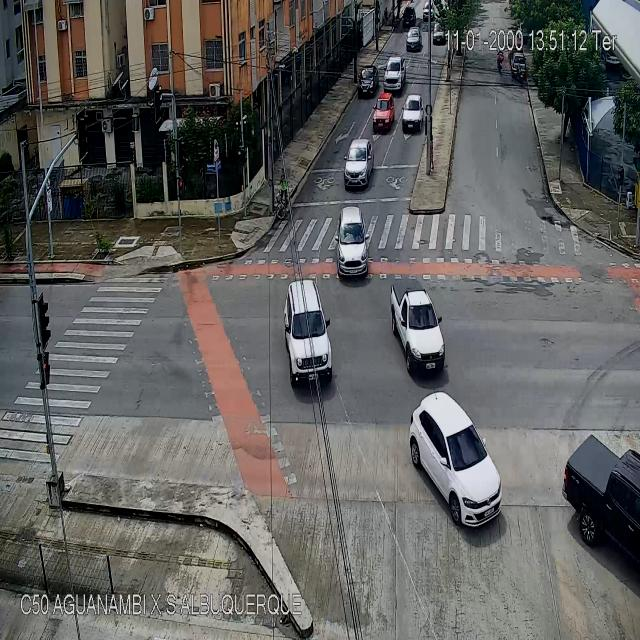Car: (408, 390, 500, 526), (563, 433, 639, 565), (390, 277, 444, 379), (282, 282, 333, 382), (329, 198, 375, 286), (344, 138, 370, 190), (374, 89, 394, 128), (384, 54, 404, 92), (403, 96, 422, 131), (358, 67, 378, 95), (405, 24, 422, 52), (510, 50, 524, 76), (432, 21, 446, 47), (423, 1, 435, 26), (403, 6, 417, 26)
Motorcycle: (495, 44, 504, 76), (516, 61, 522, 81)
